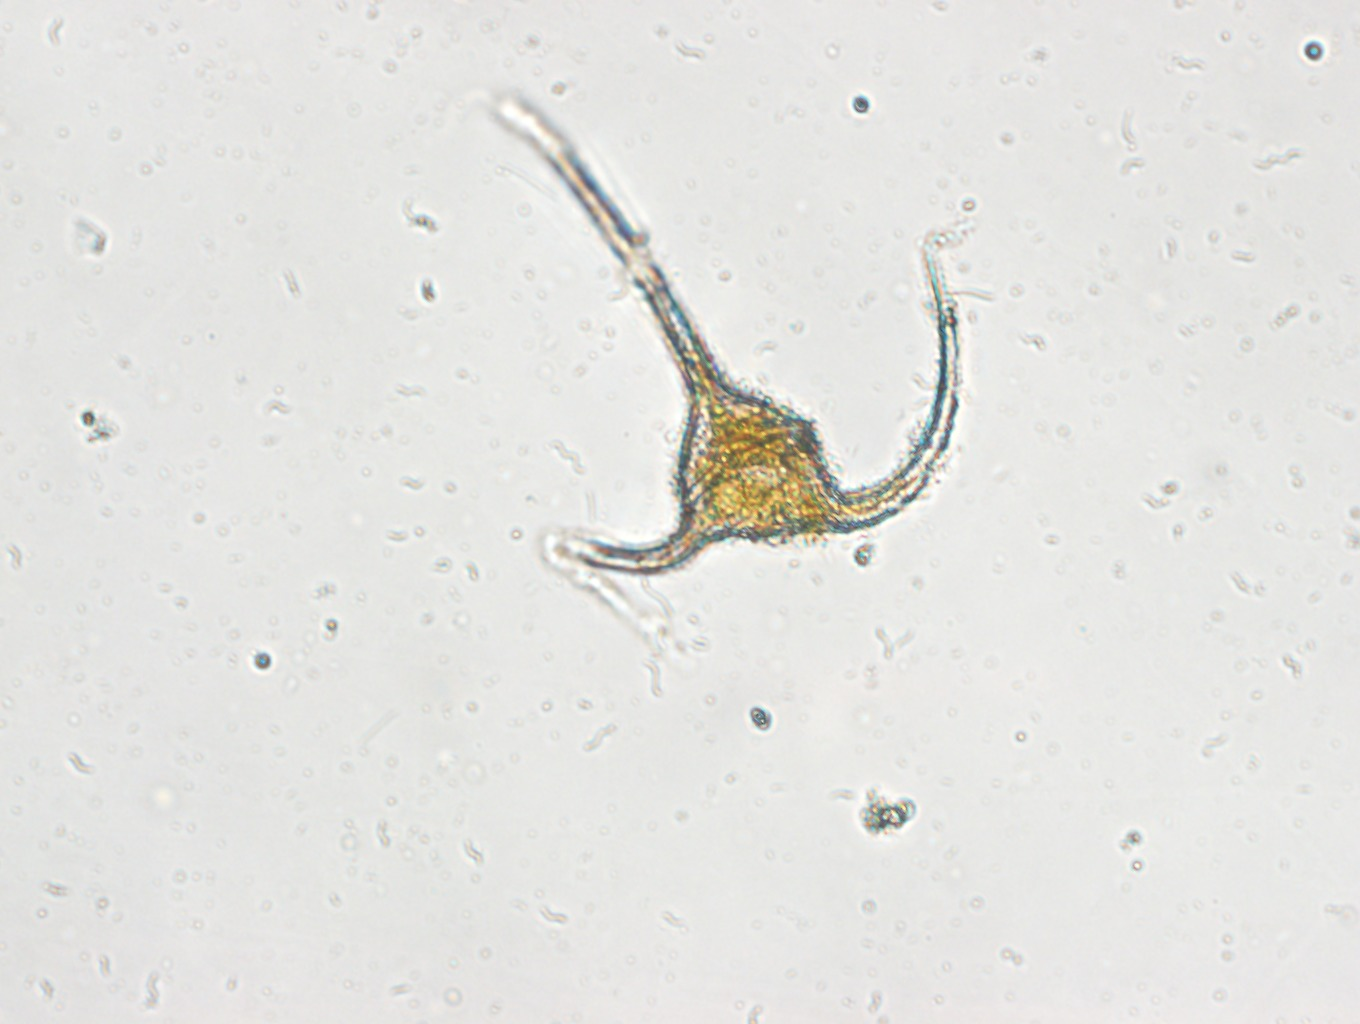ceratium trichoceros: (479, 91, 973, 578)
